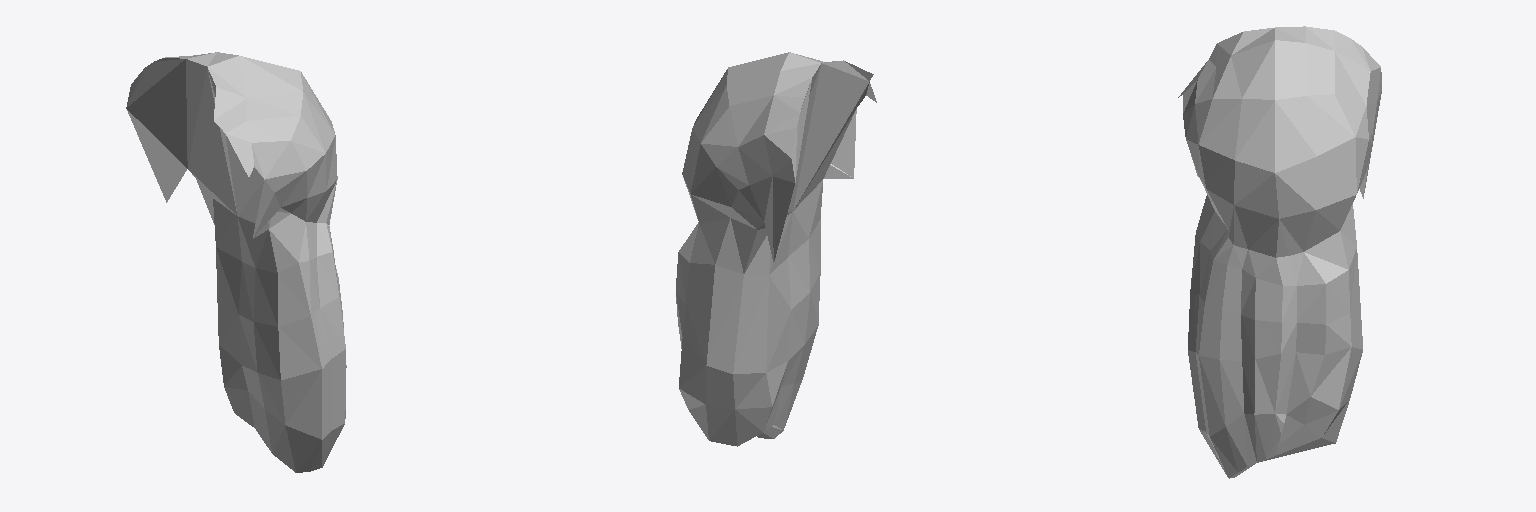
Rendered from leftshoulder.obj.
The picture shows the model from 3 angles: view 1: azimuth 30°, elevation 25°; view 2: azimuth 150°, elevation 25°; view 3: azimuth 270°, elevation 25°; orthographic projection.
Visible parts, largest first — view 1: cube1_copy16; view 2: cube1_copy16; view 3: cube1_copy16.
Boxes of the visible parts, <box> form: cube1_copy16: <box>126,52,346,472</box>; cube1_copy16: <box>676,52,876,446</box>; cube1_copy16: <box>1178,26,1381,478</box>.
Size of the model in its own units: 0.7678 by 1.93 by 0.8666.